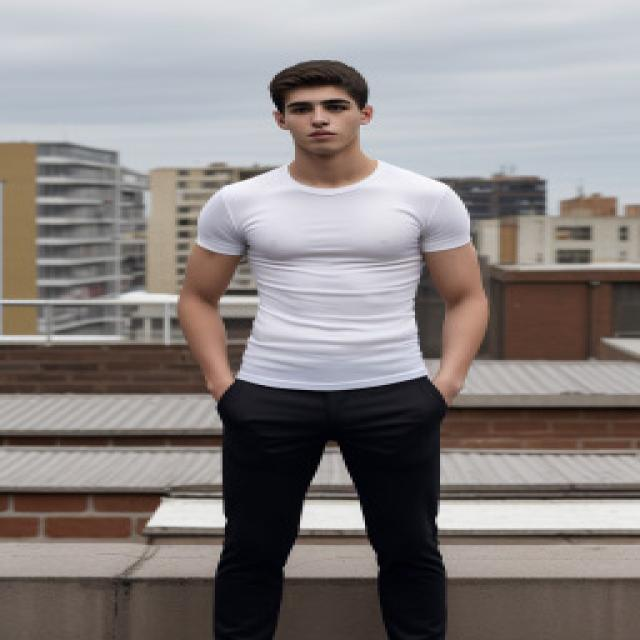Ai human 2: (166, 44, 507, 640)
